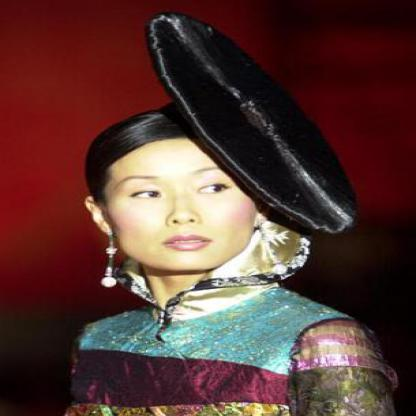face: (99, 114, 260, 275)
